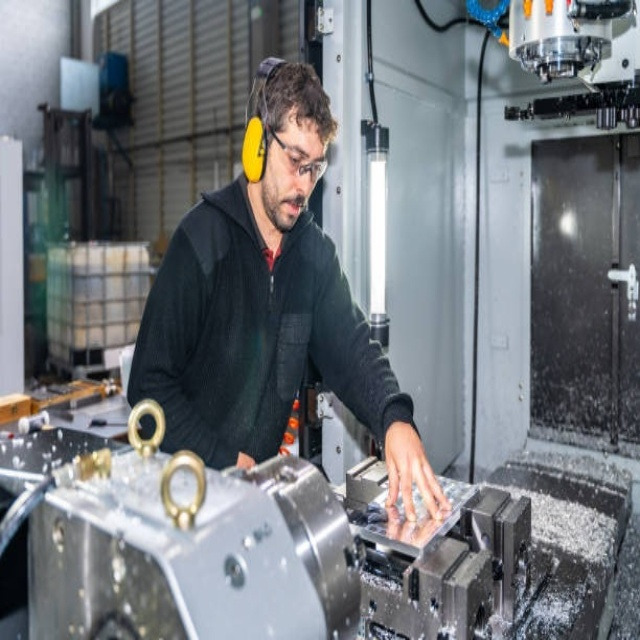Gafas: (267, 123, 327, 184)
Sin_guantes: (380, 420, 453, 522)
Sin_mascara: (276, 195, 310, 221)
